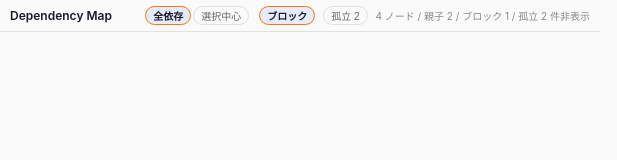
Test: [FR-VIS-027-AC16] 親も子もブロック関係も無い孤立タスクは Dependency Map に既定で表示されず、ヘッダに件数が示され、トグルで表示できる › [Issue #398] 孤立タスクは既定で描かれず、hint とトグルに件数が出て、押すとノードとして現れる
This screenshot has width=617, height=160.
Expected: the element that starts with "Dependency Map" shows "孤立 2 件非表示", x1=376 y1=10 x2=590 y2=22
Step 1. Click the button "孤立 2" → click(345, 16), box x1=323 y1=6 x2=368 y2=25
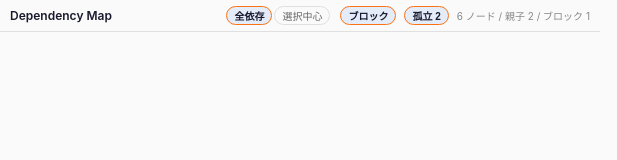
Expected: the text "件非表示" is gone
